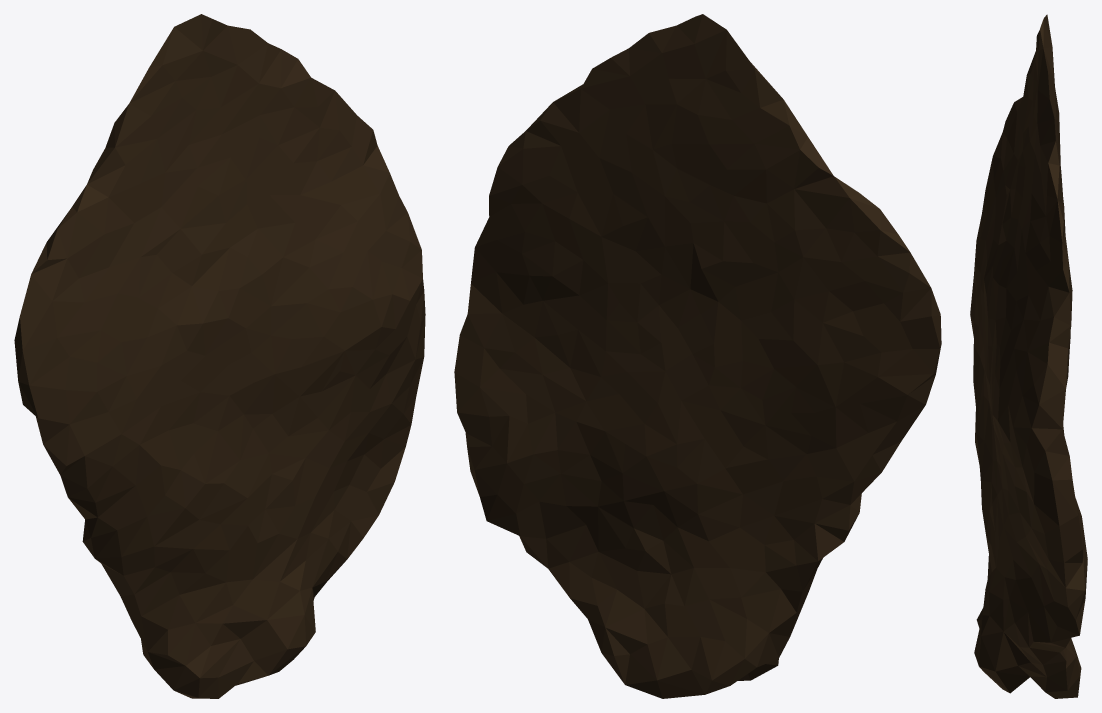
Rendered from backblate.obj.
3 views of the same model, side by side, from view 1: azimuth 30°, elevation 25°; view 2: azimuth 150°, elevation 25°; view 3: azimuth 270°, elevation 25° (orthographic). The views are drawn at different scales.
Parts seen in each view (by area): view 1: Stegosaurus_BackPlate; view 2: Stegosaurus_BackPlate; view 3: Stegosaurus_BackPlate.
Boxes of the visible parts, x1=… form: Stegosaurus_BackPlate: x1=14, y1=14, x2=425, y2=698; Stegosaurus_BackPlate: x1=454, y1=14, x2=941, y2=698; Stegosaurus_BackPlate: x1=970, y1=14, x2=1087, y2=698.
Size of the model in its own units: 0.5897 by 0.8631 by 0.1394.
